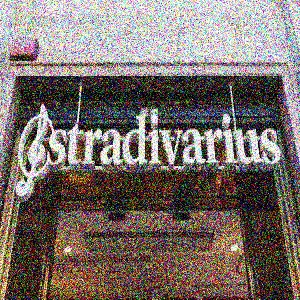stradivarius: (275, 51, 293, 153)
